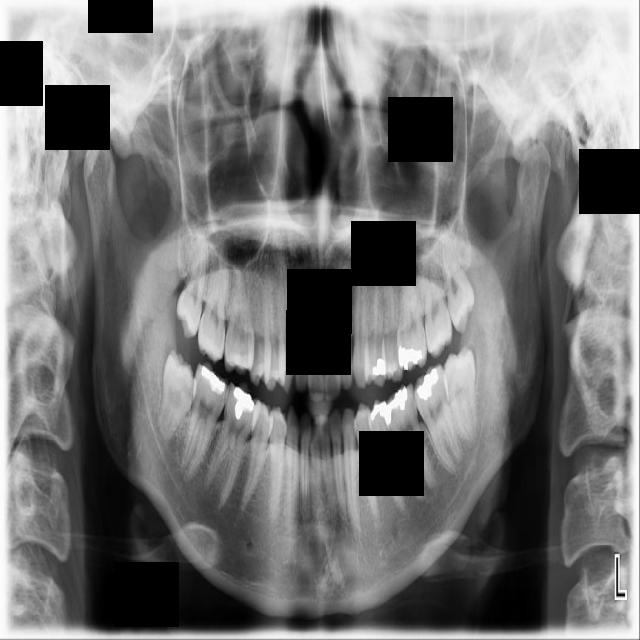3M ESPE Implant: (171, 214, 216, 342)
52: (213, 372, 275, 439), (181, 357, 244, 418), (399, 359, 461, 420), (379, 381, 423, 438), (392, 322, 431, 373), (364, 338, 387, 388), (366, 397, 391, 439)
73: (552, 498, 558, 518)
BioHorizons Implant: (416, 225, 455, 360)
BioLife Implant: (435, 214, 479, 336)
Biomet 3i Implant: (441, 344, 480, 447)
Blue Sky Bio Implant: (408, 361, 466, 477)
Caries: (195, 229, 234, 365)
Implant: (177, 358, 235, 485)
Keystone Dental Implant: (154, 349, 201, 444)
